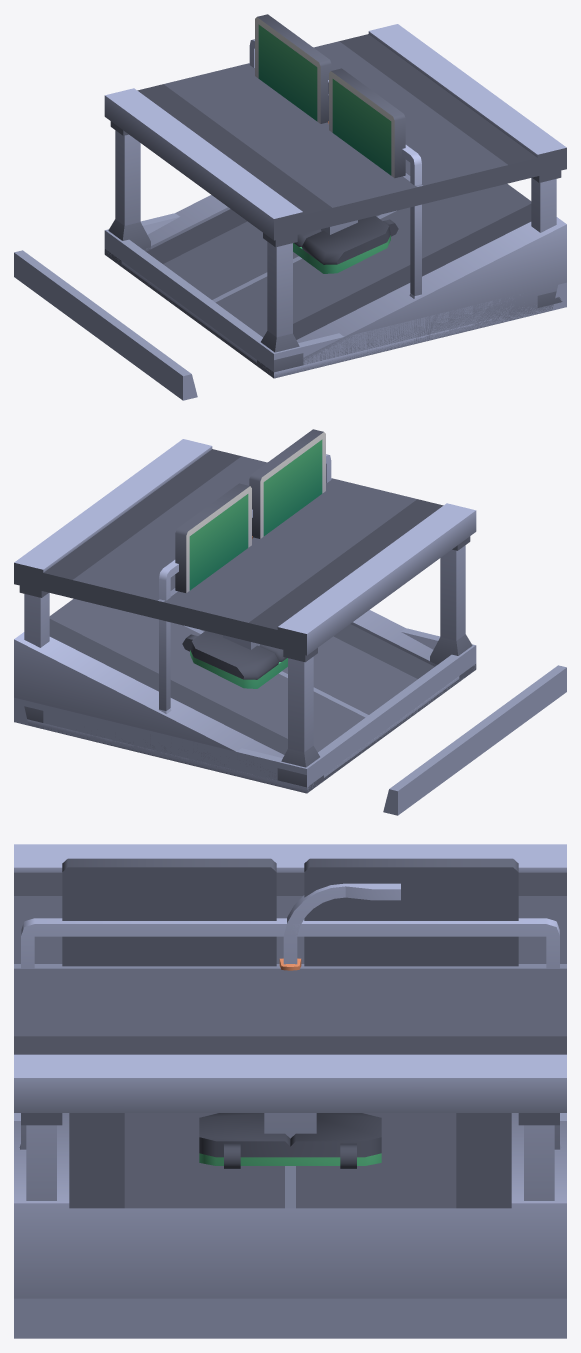
File: roads.glb
The picture shows the model from 3 angles, top to bottom: view 1: azimuth 30°, elevation 25°; view 2: azimuth 150°, elevation 25°; view 3: azimuth 270°, elevation 25°; orthographic projection. The views are drawn at different scales.
Parts seen in each view (by area): view 1: road-bridge, road-slant, sign-highway, road-end-barrier, road-side-barrier, lid-right, road-straight, dumpster, road-square; view 2: road-bridge, road-slant, sign-highway, road-end-barrier, road-side-barrier, lid-left, road-straight, dumpster; view 3: road-bridge, road-slant, sign-highway, road-side-barrier, lid-left, lid-right, light-curved, dumpster, bridge-pillar-wide.
Part boxes in pixels (x1,y1,x2,y2): road-bridge: [104, 24, 566, 372]; road-slant: [144, 184, 566, 377]; sign-highway: [249, 14, 421, 298]; road-end-barrier: [104, 213, 552, 377]; road-side-barrier: [14, 250, 566, 400]; lid-right: [302, 216, 390, 264]; road-straight: [104, 249, 550, 378]; dumpster: [293, 219, 398, 273]; road-square: [104, 249, 273, 375]; road-bridge: [14, 439, 476, 787]; road-slant: [14, 599, 436, 776]; sign-highway: [159, 429, 331, 713]; road-end-barrier: [23, 628, 476, 792]; road-side-barrier: [14, 665, 566, 815]; lid-left: [190, 631, 278, 679]; road-straight: [27, 664, 476, 793]; dumpster: [182, 634, 287, 688]; road-bridge: [14, 844, 566, 1200]; road-slant: [14, 1113, 566, 1298]; sign-highway: [19, 858, 561, 1150]; road-side-barrier: [14, 1298, 566, 1338]; lid-left: [290, 1113, 381, 1157]; lid-right: [199, 1113, 290, 1157]; light-curved: [283, 883, 400, 964]; dumpster: [199, 1143, 381, 1168]; bridge-pillar-wide: [264, 1113, 316, 1138].
Size of the model in its own units: 1.31 by 0.7074 by 1.
Materials: 1 (1 with a texture image).
